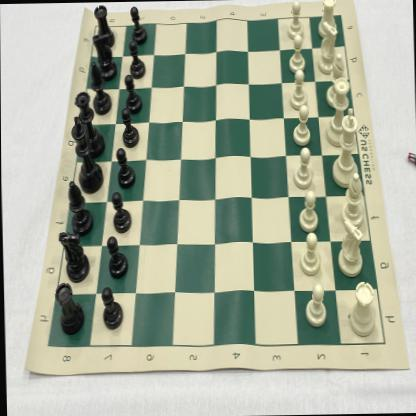black-bishop: (68, 180, 92, 235), (89, 62, 111, 114)
black-king: (72, 114, 104, 193)
black-knight: (58, 232, 89, 282), (91, 33, 116, 80)
black-pawn: (105, 235, 128, 278), (100, 286, 122, 330), (115, 148, 136, 189), (120, 108, 140, 148), (112, 192, 131, 232), (124, 73, 142, 114), (129, 5, 147, 44), (128, 40, 146, 78)
black-queen: (74, 90, 104, 156)
black-rook: (54, 282, 83, 335), (94, 5, 114, 48)
white-bishop: (340, 172, 364, 227), (325, 53, 346, 108)
white-king: (330, 107, 359, 188)
white-knight: (335, 218, 365, 277), (316, 21, 338, 74)
white-pawn: (304, 284, 328, 328), (297, 190, 321, 233), (298, 232, 321, 276), (291, 146, 313, 188), (291, 104, 312, 146), (289, 69, 308, 110), (285, 0, 304, 40), (287, 34, 306, 72)
white-queen: (323, 76, 351, 146)
white-rook: (348, 280, 375, 336), (316, 0, 337, 39)
